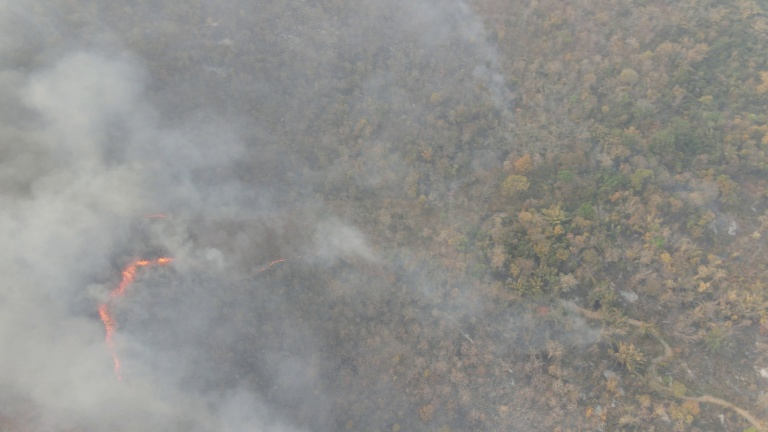fire: (98, 252, 178, 389), (254, 256, 288, 274), (138, 208, 175, 222)
smoke: (1, 76, 289, 432)
